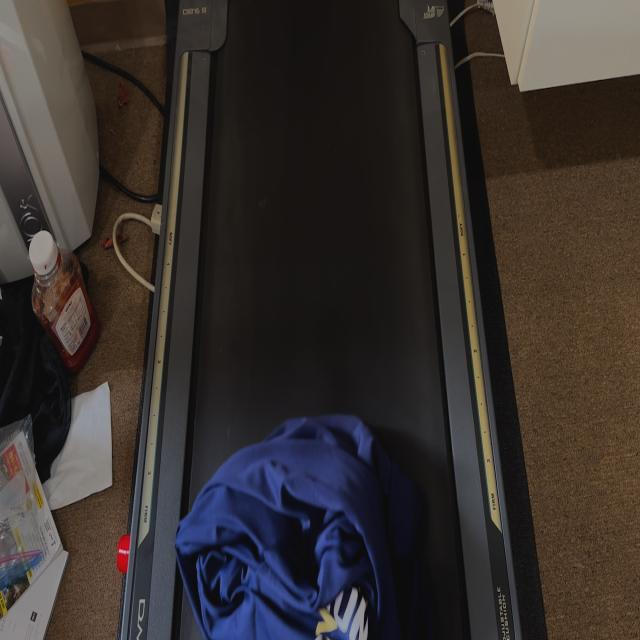Trash: (172, 402, 432, 638)
